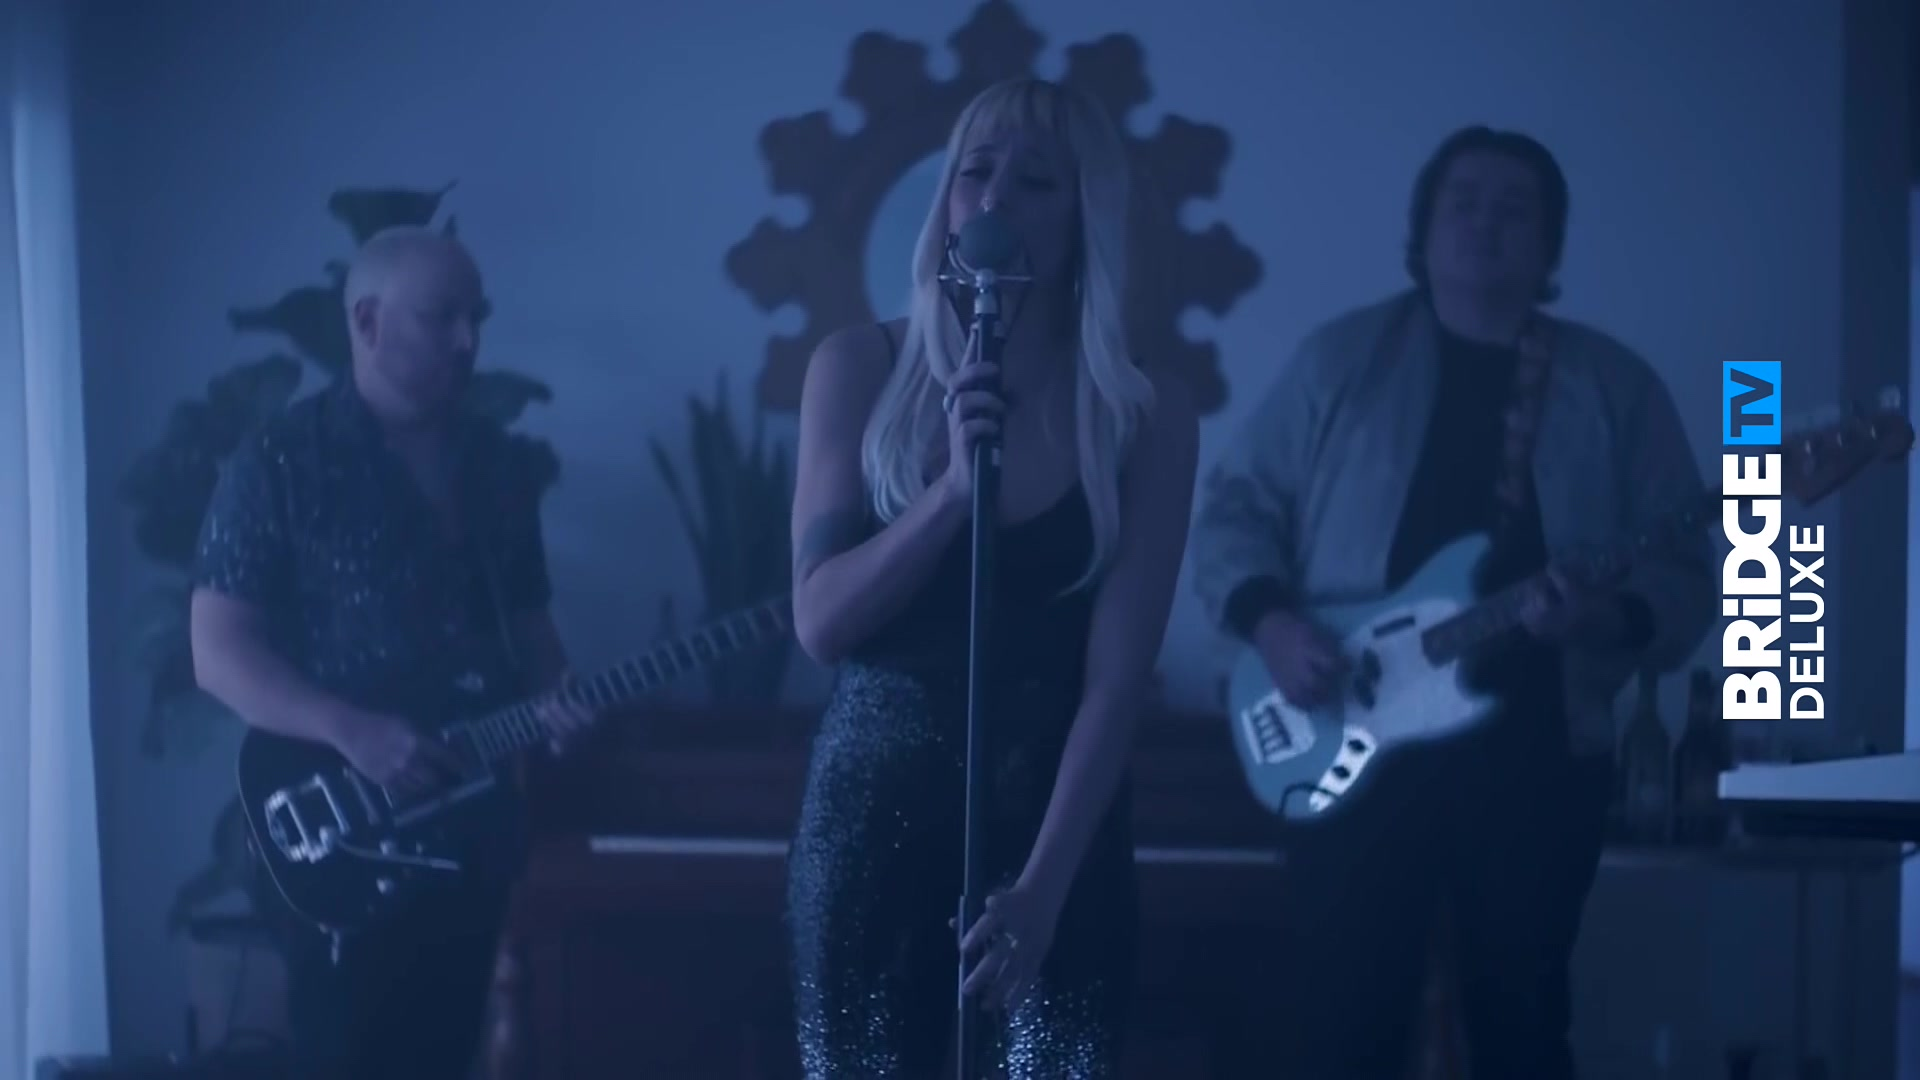Bridge_TV_Deluxe: (1716, 353, 1828, 727)
